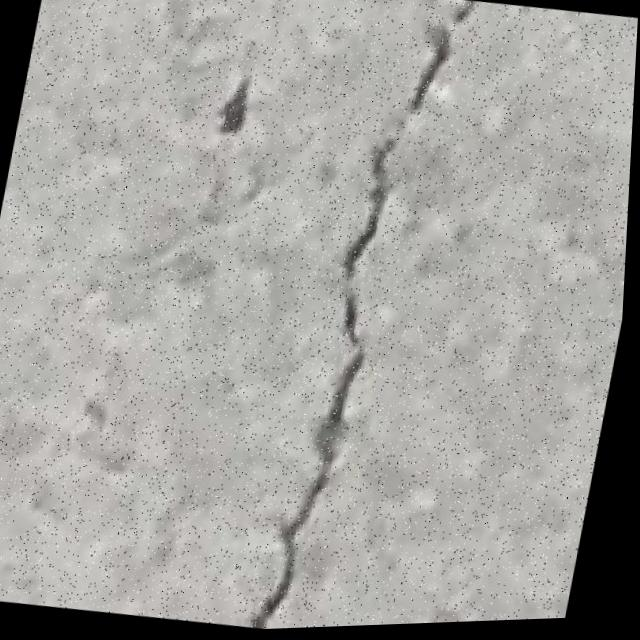Crack: (237, 0, 492, 632)
